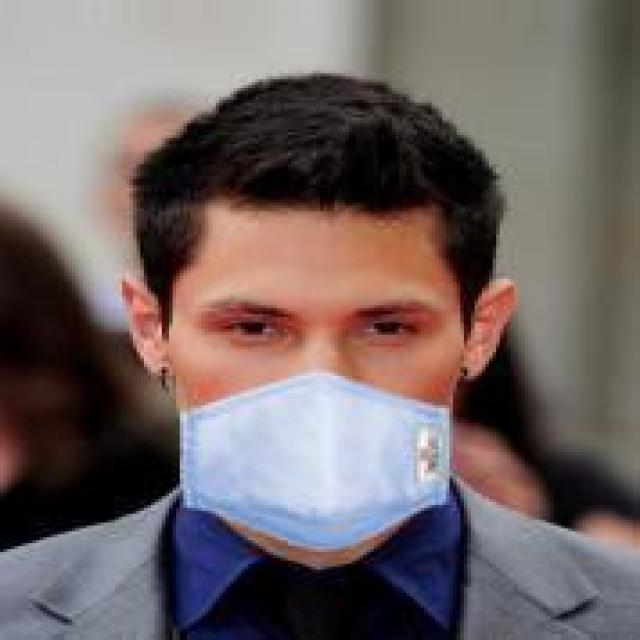mask: (111, 94, 579, 555)
